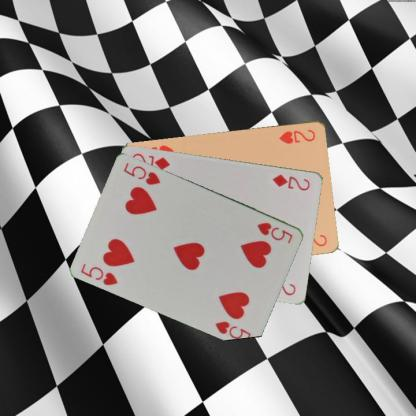2d: (270, 171, 311, 192)
2h: (276, 127, 316, 145)
5h: (78, 260, 119, 286), (254, 220, 295, 244)
